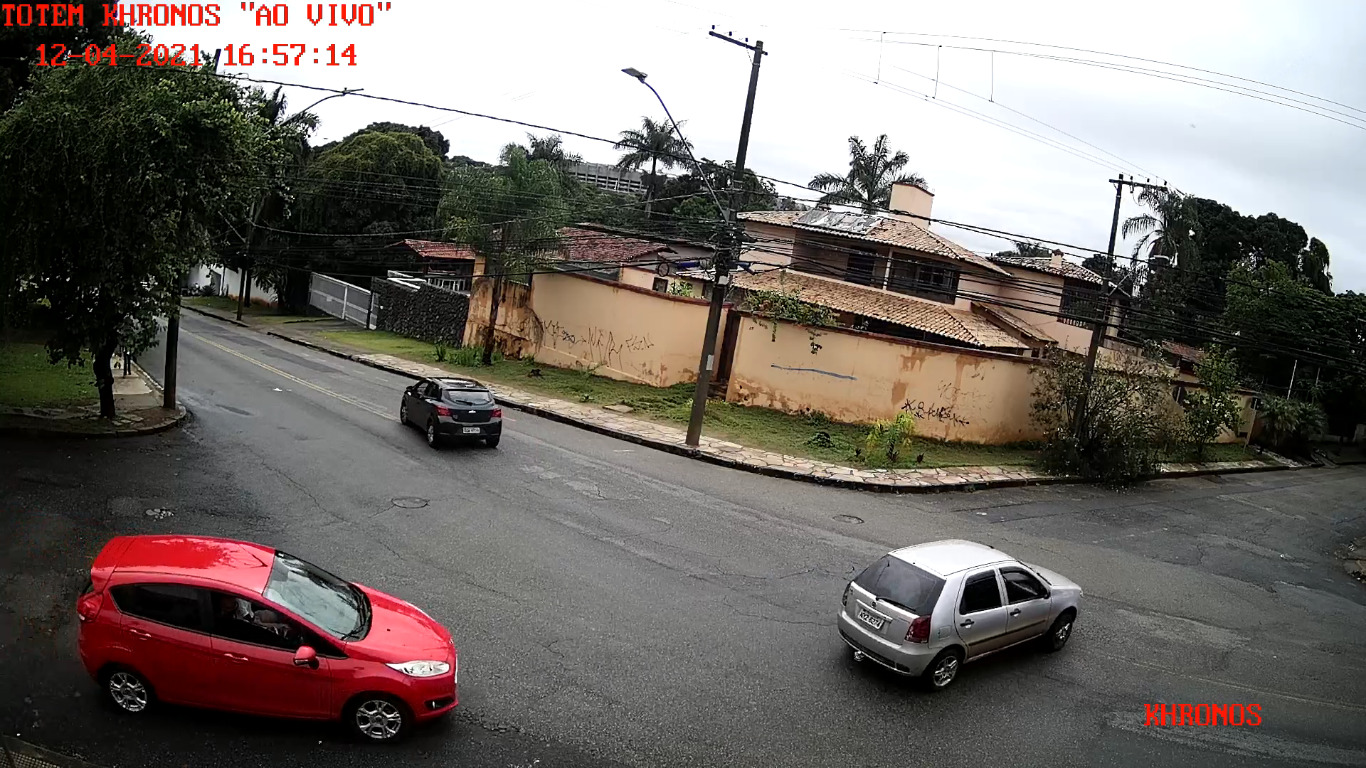car: (77, 534, 459, 740), (837, 536, 1084, 692), (400, 376, 501, 448)
